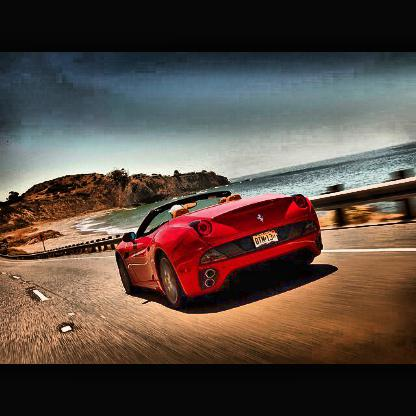Ferrari California Convertible 2012: (116, 191, 325, 309)
